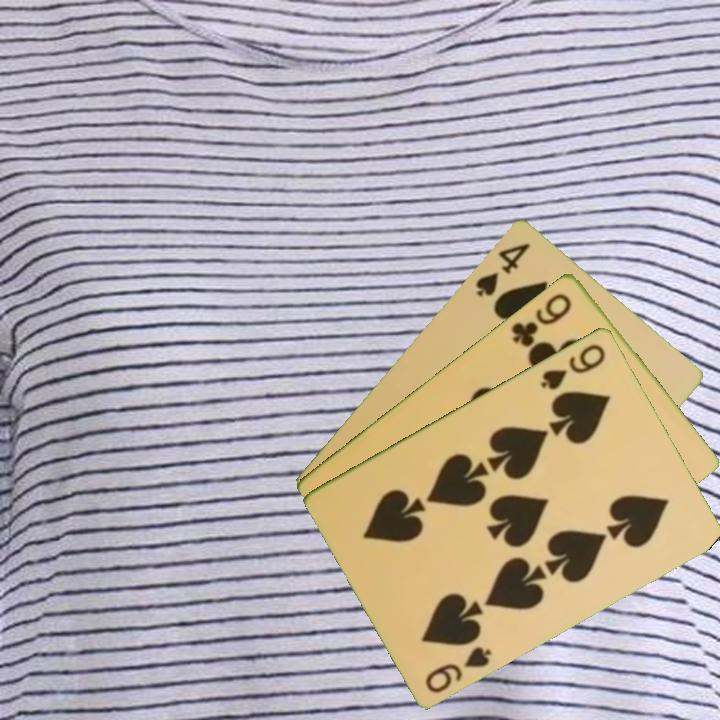4s: (472, 238, 534, 299)
9c: (508, 289, 575, 350)
9s: (536, 339, 609, 393), (421, 642, 494, 696)
